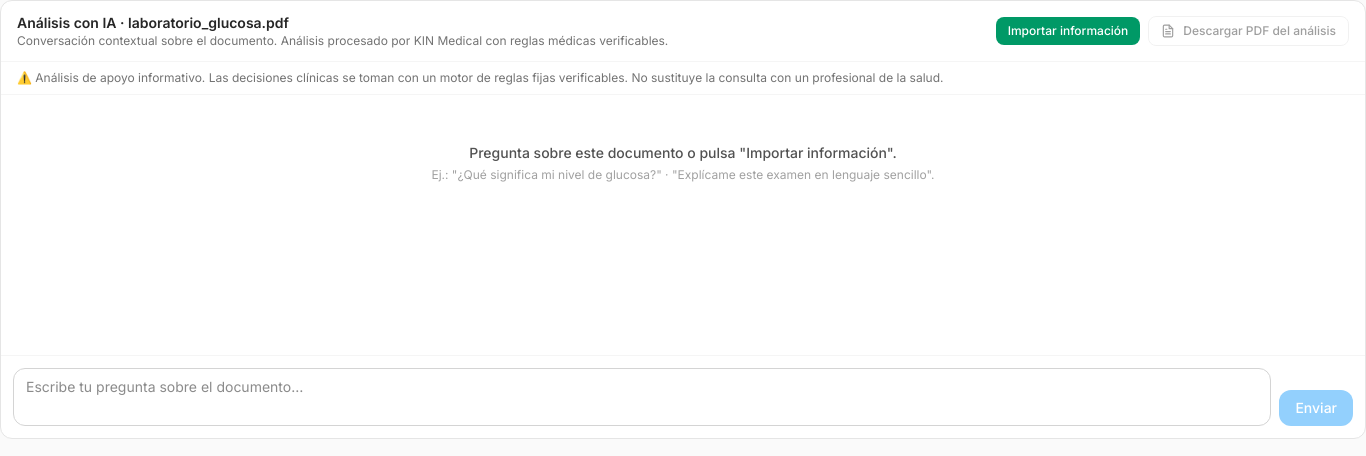
it: DocumentChatPanel › "Importar información" envía la extracción automática
The image size is (1366, 456).
Click the button "Importar información" at (1068, 31), box [996,17,1140,45]
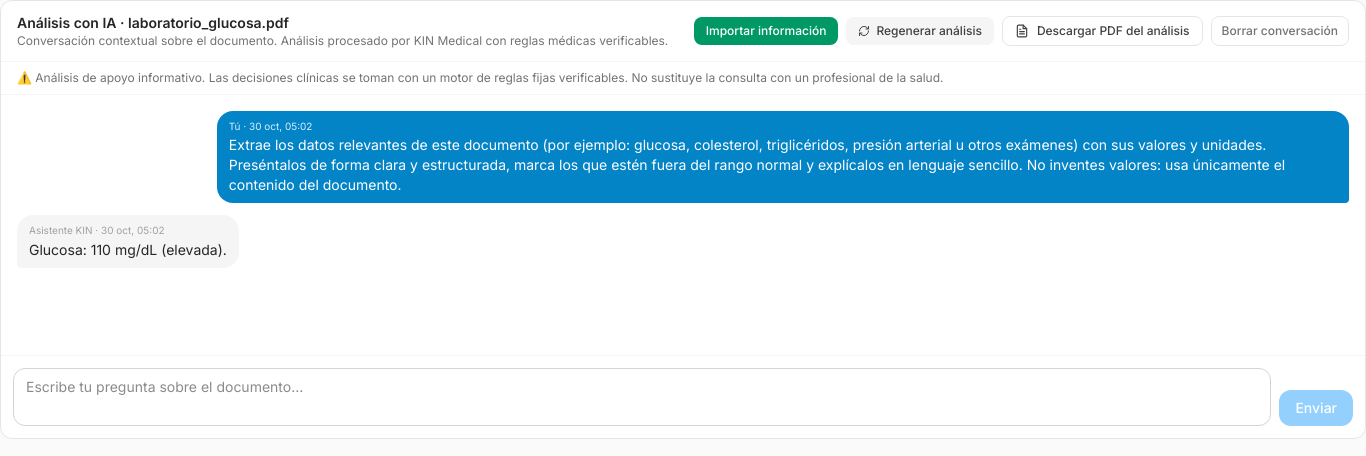
Result: the text "Asistente KIN · 30 oct, 05:02 Glucosa: 110 mg/dL (elevada)." is shown at [17,215,239,268]
